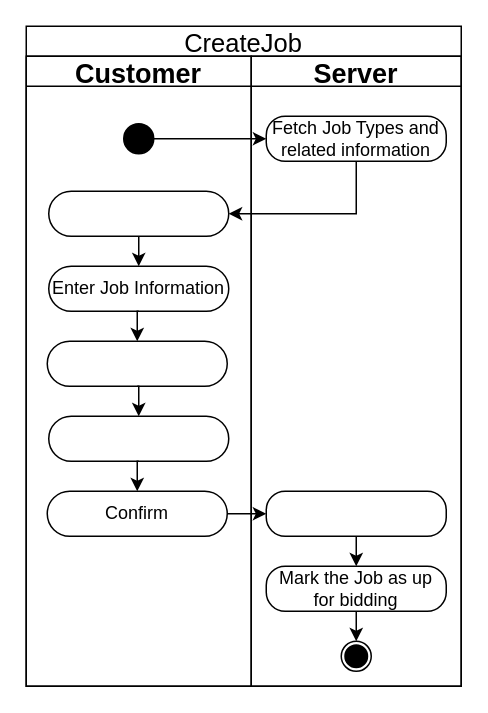
The diagram is 488 pixels wide and 713 high, and some of its shapes have lost their labels. Each missing label, with the centre of its shape:
"Enter Starting Price" goes at point (136, 363).
"Select Job Type" goes at point (138, 213).
"Store Job to Database" goes at point (355, 513).
"Submit Form" goes at point (138, 438).
